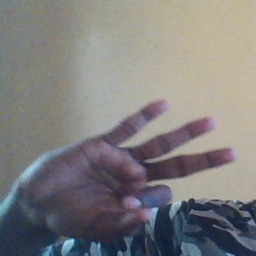K: (14, 98, 238, 239)
